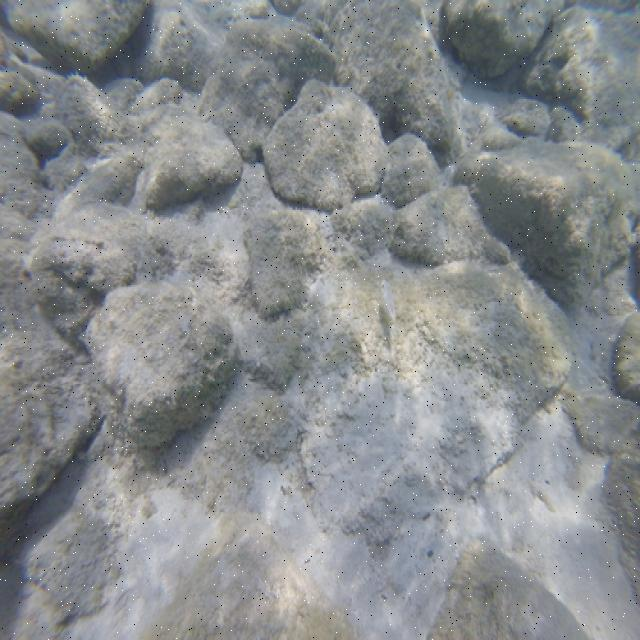Balik: (383, 280, 394, 319)
